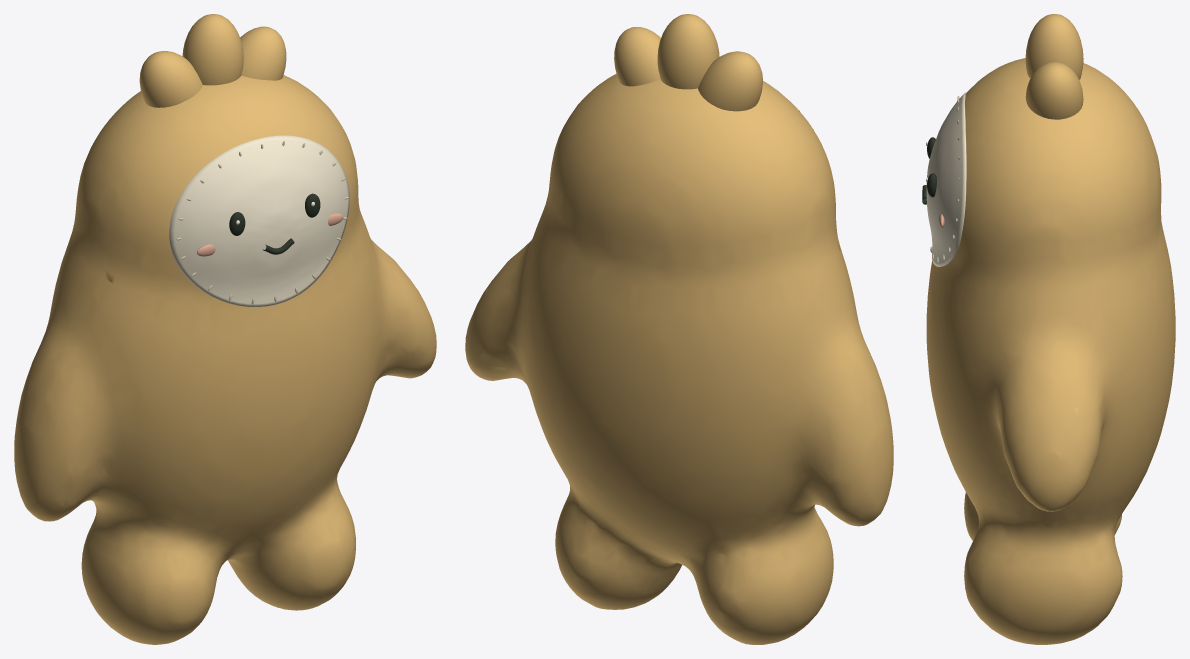
Rendered from sunny-atelier-v2.glb.
3 views of the same model, side by side, from view 1: azimuth 30°, elevation 25°; view 2: azimuth 150°, elevation 25°; view 3: azimuth 270°, elevation 25° (orthographic). The views are drawn at different scales.
Parts seen in each view (by area): view 1: Sunny continuous body, Linen face panel, Sun tuft.001, Sun tuft, Sun tuft.002; view 2: Sunny continuous body, Sun tuft.001, Sun tuft, Sun tuft.002; view 3: Sunny continuous body, Linen face panel, Sun tuft.002, Sun tuft.001.
Part boxes in pixels (x1=…): Sunny continuous body: x1=14, y1=75, x2=436, y2=644; Linen face panel: x1=169, y1=135, x2=349, y2=306; Sun tuft.001: x1=182, y1=14, x2=243, y2=85; Sun tuft: x1=139, y1=51, x2=202, y2=107; Sun tuft.002: x1=240, y1=26, x2=286, y2=80; Sunny continuous body: x1=465, y1=74, x2=893, y2=644; Sun tuft.001: x1=657, y1=14, x2=719, y2=89; Sun tuft: x1=698, y1=51, x2=762, y2=111; Sun tuft.002: x1=614, y1=27, x2=660, y2=86; Sunny continuous body: x1=926, y1=58, x2=1175, y2=644; Linen face panel: x1=926, y1=92, x2=966, y2=266; Sun tuft.002: x1=1025, y1=62, x2=1083, y2=119; Sun tuft.001: x1=1025, y1=14, x2=1083, y2=79.
Size of the model in its own units: 1.36 by 1.91 by 0.7424.
